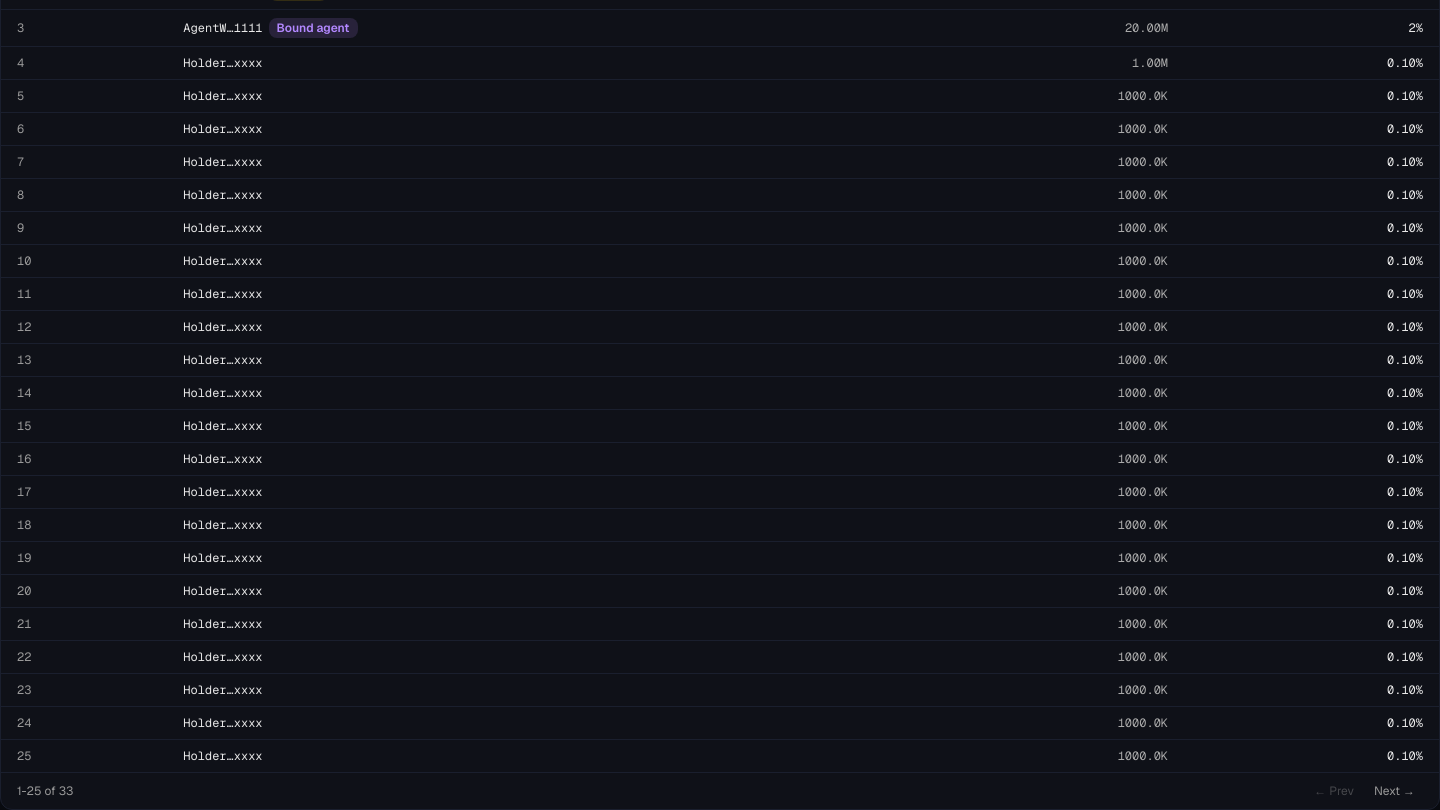
Test: TokenHolders › shows concentration, labels, and pages the list
The image size is (1440, 810).
(page scrolled)
Expected: the row "3 AgentW…1111 Bound agent 20.00M 2%" is shown, [1,9,1439,46]
Expected: the text "1-25 of 33" is shown, [17,783,74,799]
Click the button "Next →" at (1394, 791), box [1366,781,1423,801]
(page scrolled)
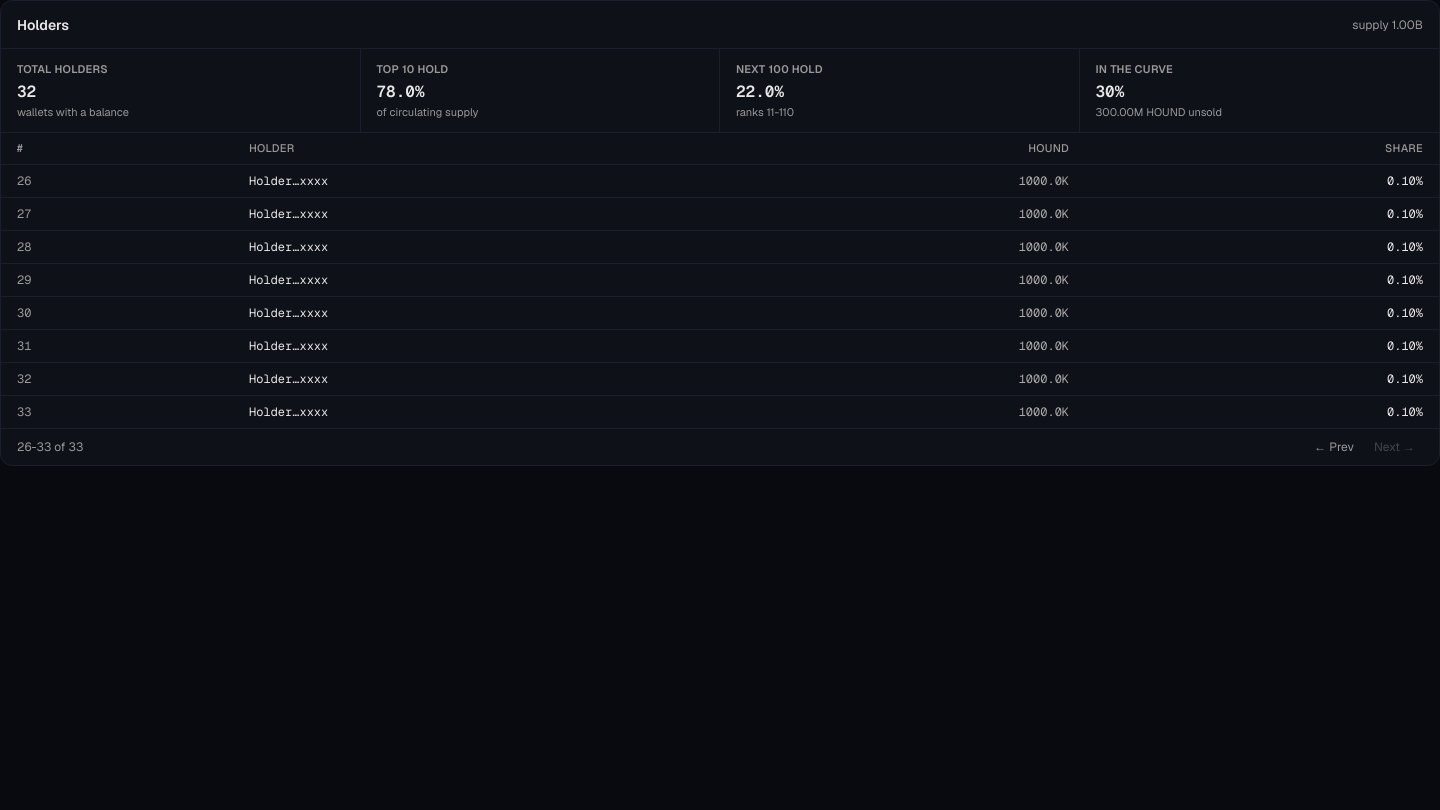
Expected: the text "26-33 of 33" is shown, [17,439,83,455]
